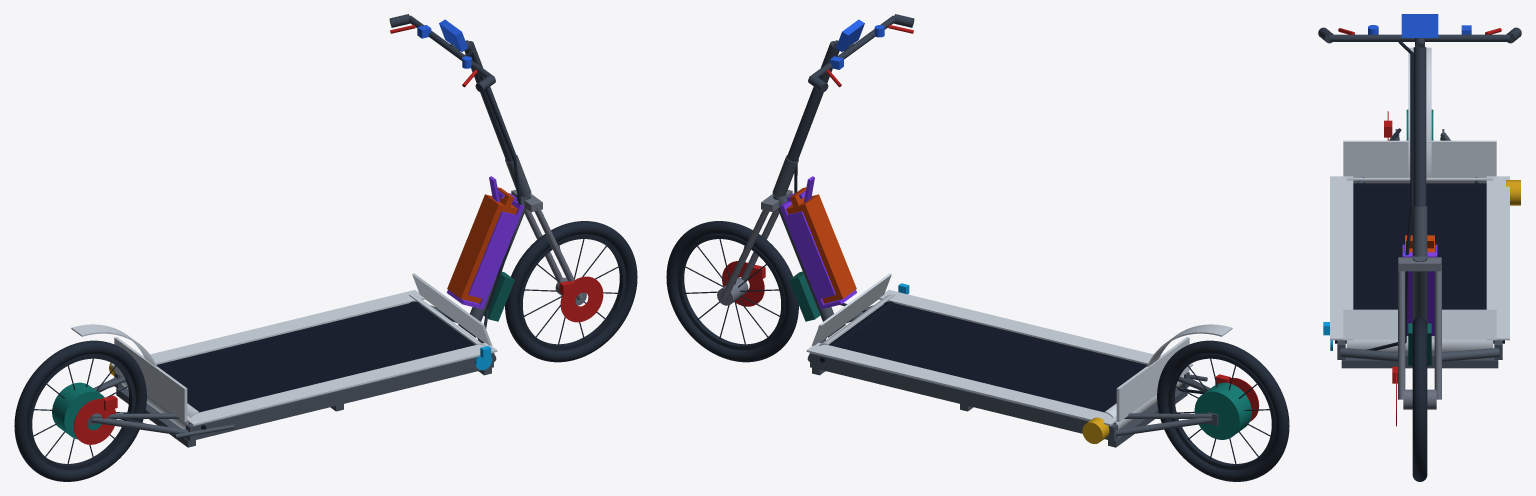
3 views of the same model, side by side, from view 1: azimuth 30°, elevation 25°; view 2: azimuth 150°, elevation 25°; view 3: azimuth 270°, elevation 25° (orthographic). The views are drawn at different scales.
Parts seen in each view (by area): view 1: Belt and end rollers, Guards (heel, roller, side, toe), Main frame, Front tire and rim (with item 7), Rear tire and rim (with item 6), SwapCell pack (not in parts cost), SwapCell receiver cradle, class V1, Steering column, handlebar and grips, Front brake (with item 9), Rear wheel with 250 W geared hub motor, Front wheel, fork and headset, Brakes with motor cut-off levers (+3 smaller); view 2: Belt and end rollers, Guards (heel, roller, side, toe), Main frame, Front tire and rim (with item 7), Rear tire and rim (with item 6), SwapCell pack (not in parts cost), SwapCell receiver cradle, class V1, Rear wheel with 250 W geared hub motor, Steering column, handlebar and grips, Front wheel, fork and headset, Front brake (with item 9), Controller and walking logic board (+1 smaller); view 3: Guards (heel, roller, side, toe), Belt and end rollers, Main frame, Steering column, handlebar and grips, Front wheel, fork and headset, Front tire and rim (with item 7), Display, selector, lanyard, key switch, Harness to the handlebar (with item 15), SwapCell receiver cradle, class V1, Controller and walking logic board, Anti-reverse clutch and belt drag, SwapCell pack (not in parts cost).
Part boxes in pixels (x1=…): Belt and end rollers: x1=156, y1=301, x2=474, y2=429; Guards (heel, roller, side, toe): x1=71, y1=273, x2=497, y2=429; Main frame: x1=87, y1=155, x2=531, y2=447; Front tire and rim (with item 7): x1=505, y1=221, x2=637, y2=362; Rear tire and rim (with item 6): x1=14, y1=340, x2=146, y2=481; SwapCell pack (not in parts cost): x1=447, y1=187, x2=517, y2=303; SwapCell receiver cradle, class V1: x1=447, y1=176, x2=524, y2=309; Steering column, handlebar and grips: x1=389, y1=14, x2=516, y2=161; Front brake (with item 9): x1=559, y1=276, x2=603, y2=322; Rear wheel with 250 W geared hub motor: x1=52, y1=382, x2=104, y2=439; Front wheel, fork and headset: x1=511, y1=190, x2=586, y2=305; Brakes with motor cut-off levers: x1=74, y1=395, x2=117, y2=444; Belt and end rollers: x1=820, y1=301, x2=1147, y2=424; Guards (heel, roller, side, toe): x1=806, y1=273, x2=1232, y2=429; Main frame: x1=772, y1=155, x2=1218, y2=447; Front tire and rim (with item 7): x1=666, y1=221, x2=798, y2=362; Rear tire and rim (with item 6): x1=1157, y1=340, x2=1289, y2=481; SwapCell pack (not in parts cost): x1=786, y1=187, x2=856, y2=303; SwapCell receiver cradle, class V1: x1=779, y1=176, x2=856, y2=309; Rear wheel with 250 W geared hub motor: x1=1194, y1=382, x2=1251, y2=439; Steering column, handlebar and grips: x1=787, y1=14, x2=914, y2=161; Front wheel, fork and headset: x1=717, y1=190, x2=792, y2=305; Front brake (with item 9): x1=722, y1=261, x2=765, y2=306; Controller and walking logic board: x1=789, y1=271, x2=820, y2=321; Guards (heel, roller, side, toe): x1=1330, y1=47, x2=1509, y2=352; Belt and end rollers: x1=1335, y1=183, x2=1504, y2=343; Main frame: x1=1337, y1=129, x2=1502, y2=368; Steering column, handlebar and grips: x1=1318, y1=27, x2=1521, y2=206; Front wheel, fork and headset: x1=1398, y1=257, x2=1441, y2=409; Front tire and rim (with item 7): x1=1412, y1=317, x2=1427, y2=481; Display, selector, lanyard, key switch: x1=1368, y1=14, x2=1471, y2=37; Harness to the handlebar (with item 15): x1=1398, y1=41, x2=1413, y2=342; SwapCell receiver cradle, class V1: x1=1402, y1=244, x2=1437, y2=335; Controller and walking logic board: x1=1408, y1=323, x2=1431, y2=365; Anti-reverse clutch and belt drag: x1=1506, y1=180, x2=1520, y2=205; SwapCell pack (not in parts cost): x1=1405, y1=235, x2=1434, y2=252.
Bounding box in the file's own units: 2.35 × 1.31 × 0.6104.
